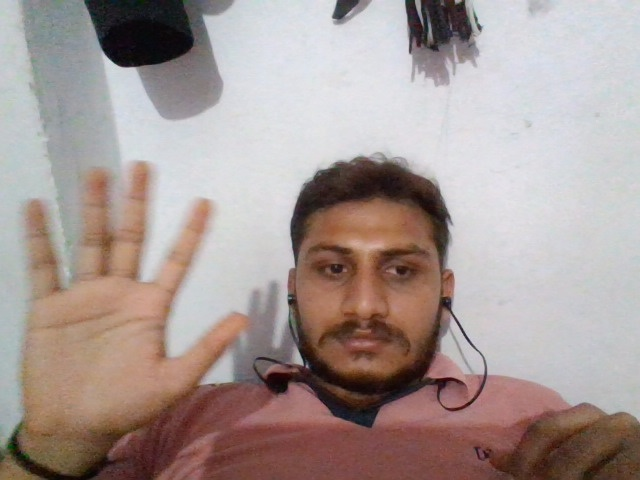Hello: (15, 146, 259, 433)
